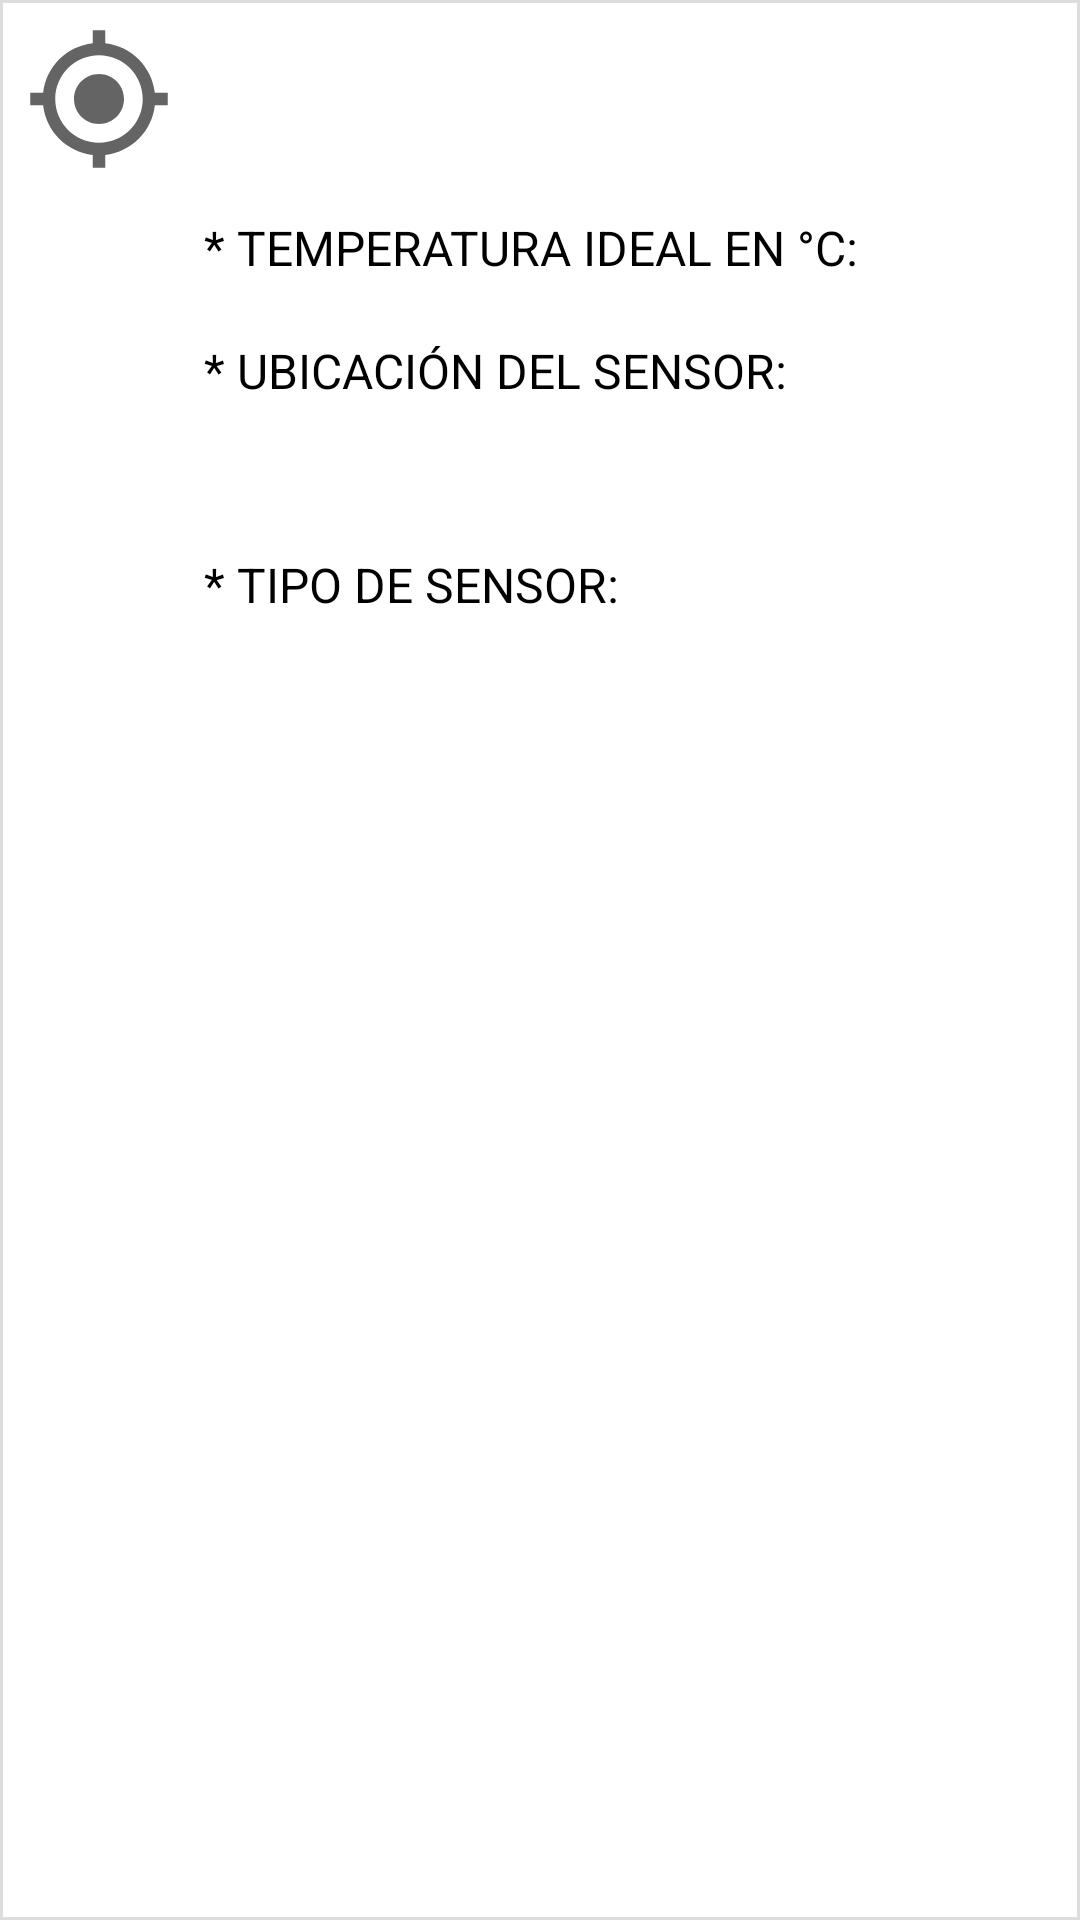

Icons on this 1080x1920 Android screen, each with its box as (x1, y1, x2, y2):
location: (30, 30, 168, 168)
